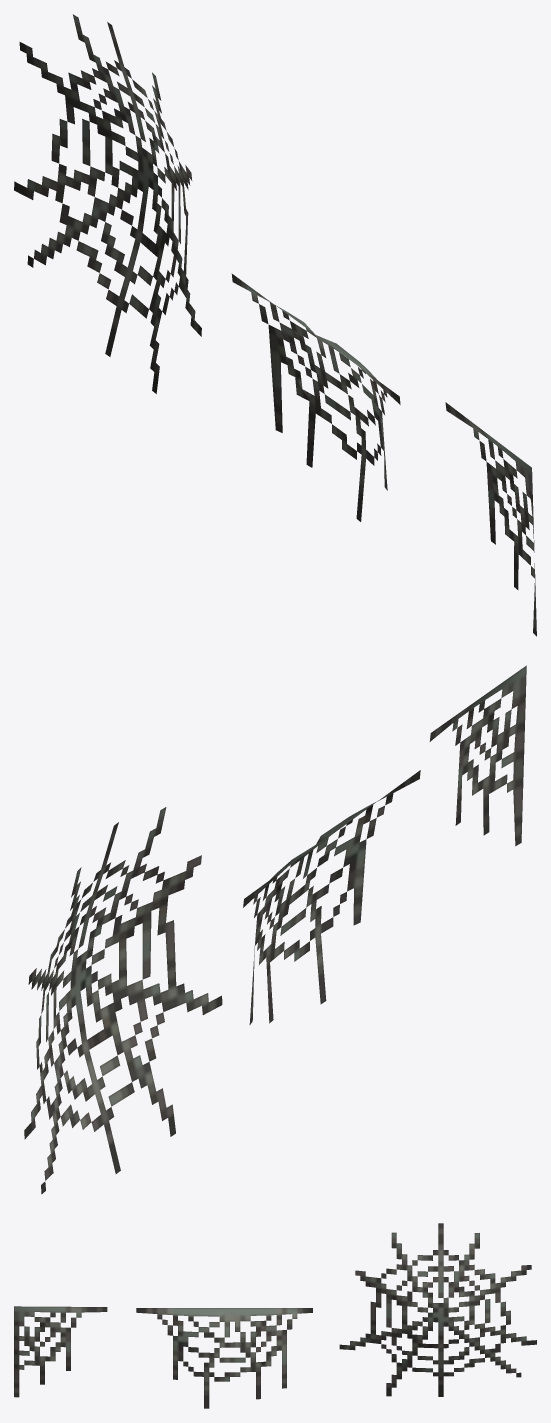
File: EnvObjMD_Spiderweb_A_Circle.FBX
The picture shows the model from 3 angles, top to bottom: view 1: azimuth 30°, elevation 25°; view 2: azimuth 150°, elevation 25°; view 3: azimuth 270°, elevation 25°; orthographic projection. The views are drawn at different scales.
Visible parts, largest first — view 1: EnvObjMD_Spiderweb_A_Circle, EnvObjMD_Spiderweb_A_HalfCircle, EnvObjMD_Spiderweb_A_Corner_R; view 2: EnvObjMD_Spiderweb_A_Circle, EnvObjMD_Spiderweb_A_HalfCircle, EnvObjMD_Spiderweb_A_Corner_R; view 3: EnvObjMD_Spiderweb_A_Circle, EnvObjMD_Spiderweb_A_HalfCircle, EnvObjMD_Spiderweb_A_Corner_R.
Part boxes in pixels (x1,y1,x2,y2): EnvObjMD_Spiderweb_A_Circle: (14, 14, 201, 393); EnvObjMD_Spiderweb_A_HalfCircle: (231, 273, 400, 521); EnvObjMD_Spiderweb_A_Corner_R: (445, 402, 536, 636); EnvObjMD_Spiderweb_A_Circle: (24, 807, 222, 1194); EnvObjMD_Spiderweb_A_HalfCircle: (243, 770, 420, 1024); EnvObjMD_Spiderweb_A_Corner_R: (429, 665, 526, 846); EnvObjMD_Spiderweb_A_Circle: (339, 1223, 536, 1396); EnvObjMD_Spiderweb_A_HalfCircle: (136, 1308, 312, 1408); EnvObjMD_Spiderweb_A_Corner_R: (14, 1306, 107, 1397).
Size of the model in its own units: 24.54 by 190 by 504.
